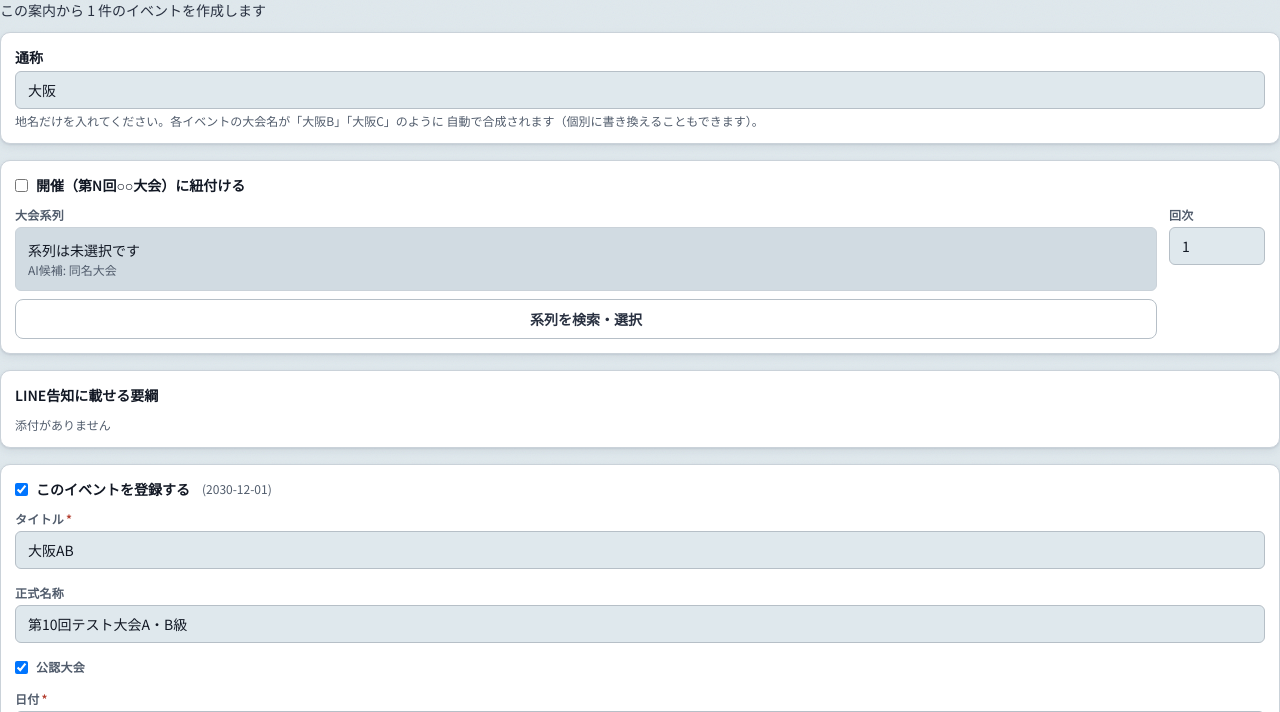
Test case: ApprovalForm — 複数単位フォーム › 別種別に同名系列がある場合は新規系列作成を提示しない
Click the button "系列を検索・選択" at (586, 319), box [15, 299, 1157, 339]
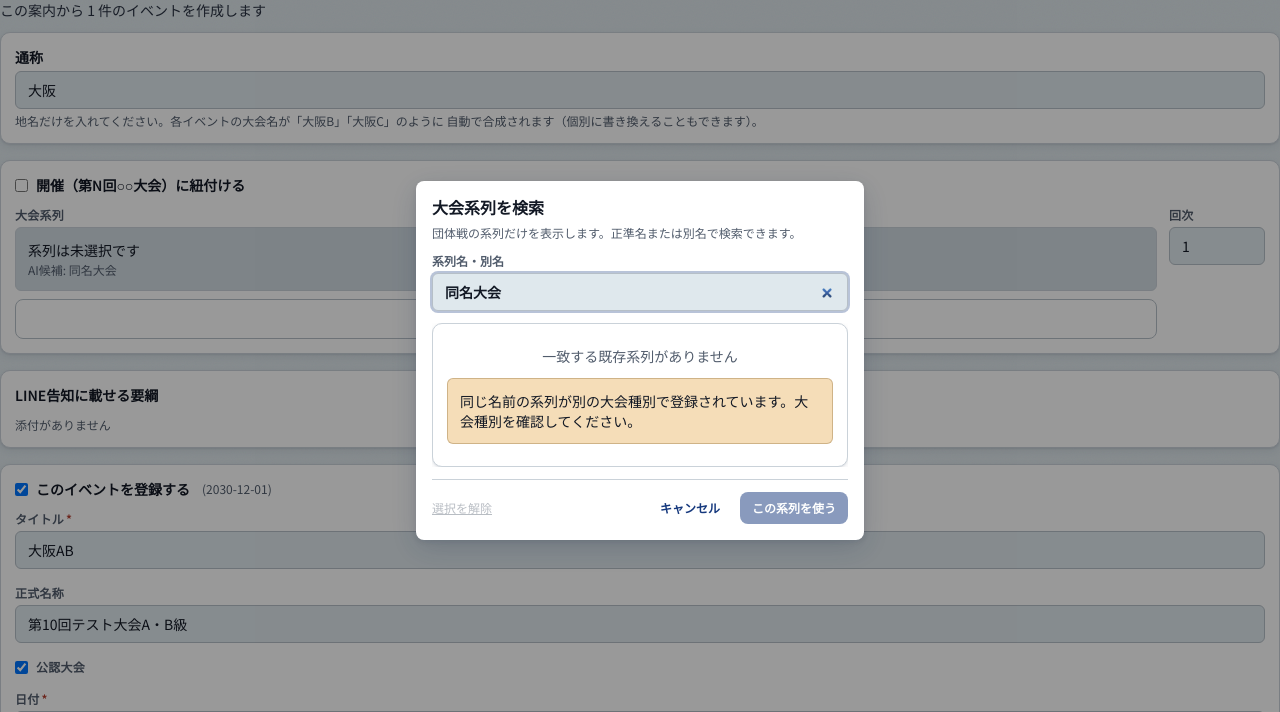
Check: the text "同じ名前の系列が別の大会種別で登録されています。大会種別を確認してください。" is shown, box [447, 378, 833, 444]
